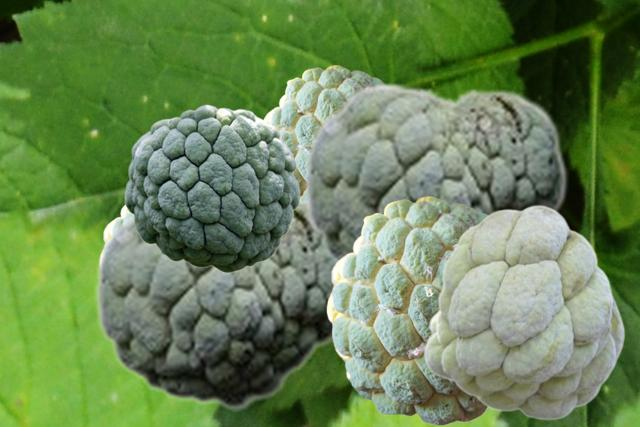atis: (94, 193, 334, 410), (303, 81, 567, 263), (423, 204, 624, 419), (326, 196, 488, 424), (124, 104, 299, 272), (263, 65, 383, 197)
